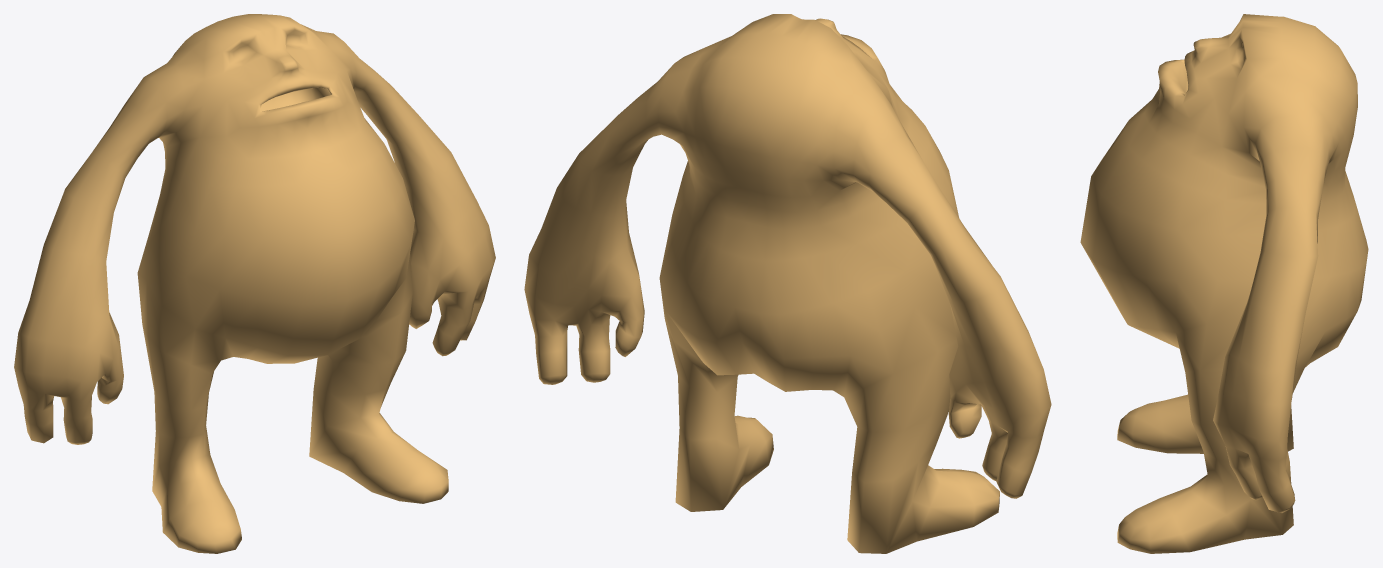
Rendered from enemi_1.fbx.
3 renders of one model, left to right at view 1: azimuth 30°, elevation 25°; view 2: azimuth 150°, elevation 25°; view 3: azimuth 270°, elevation 25°, orthographic. The views are drawn at different scales.
Visible parts, largest first — view 1: MrHumpty; view 2: MrHumpty; view 3: MrHumpty.
Part boxes in pixels (x1,y1,x2,y2): MrHumpty: (14,14,495,553); MrHumpty: (524,14,1051,553); MrHumpty: (1080,14,1368,553).
Size of the model in its own units: 549 by 503 by 283.
